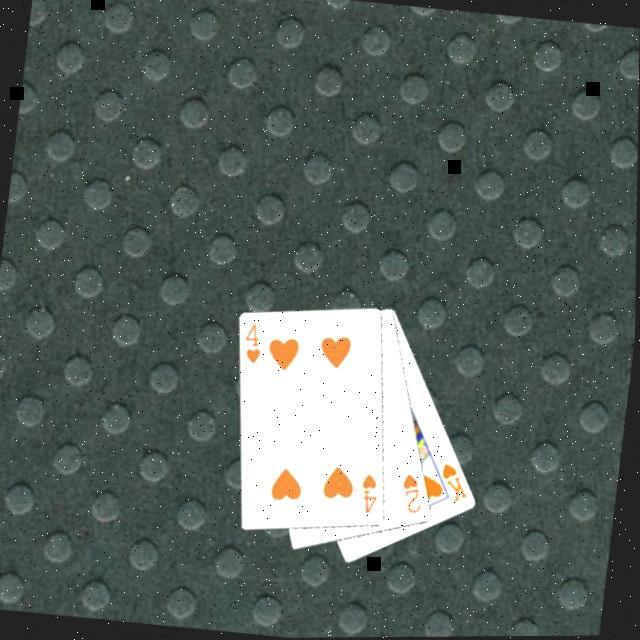2H: (396, 471, 429, 519)
4H: (354, 471, 384, 518), (238, 321, 267, 368)
KH: (436, 460, 474, 508)
